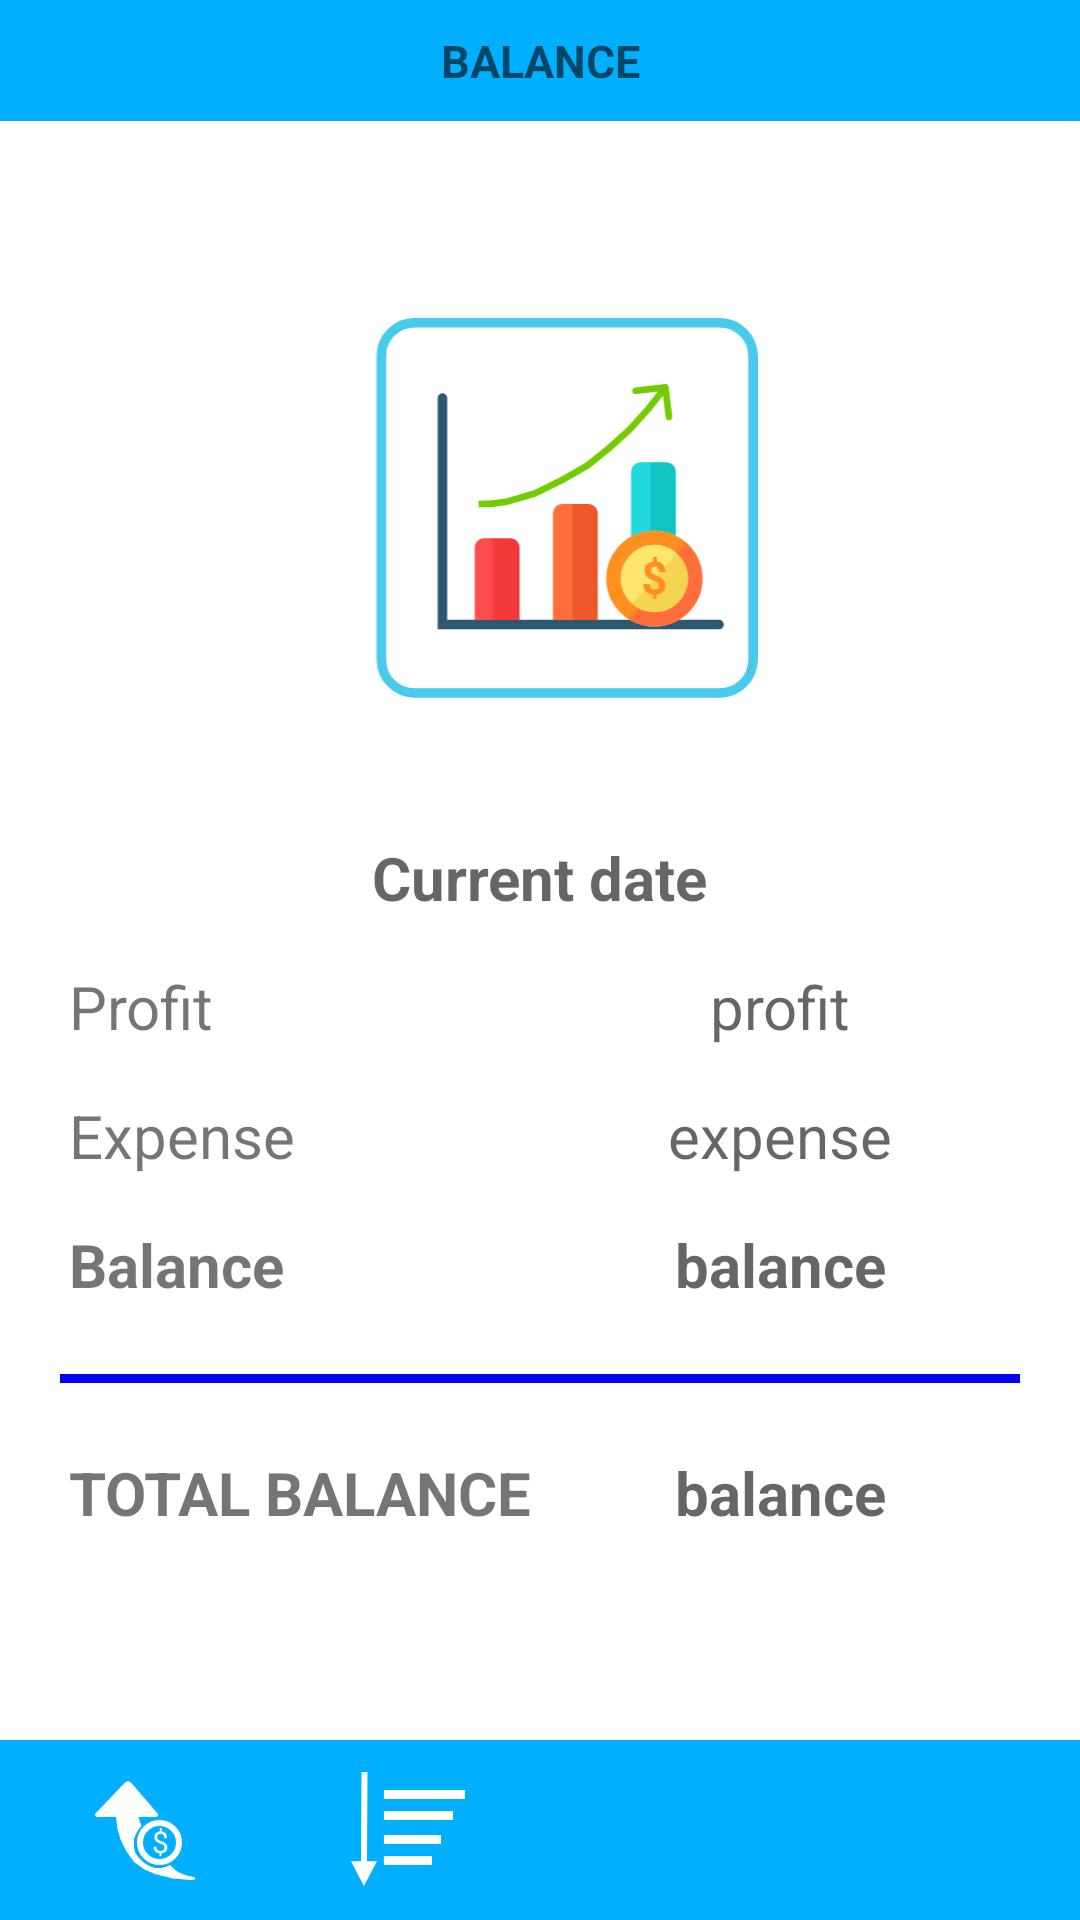

Screen size 1080*1920. Icon name, then its box in pixels as (x1, y1, x2, y2):
profit: (95, 1781, 196, 1880)
